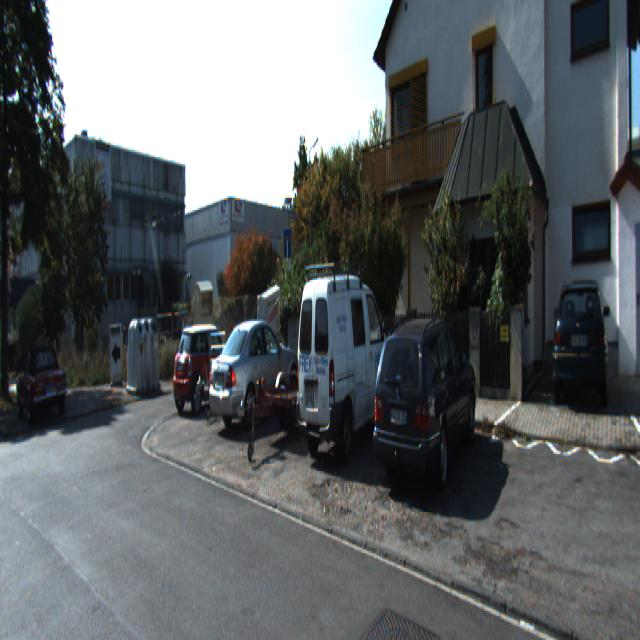Car: (294, 259, 401, 469), (372, 310, 481, 505), (205, 312, 302, 436), (552, 268, 610, 407), (169, 322, 238, 415), (14, 338, 68, 421)
Misc: (214, 357, 354, 474), (185, 326, 247, 424), (252, 282, 280, 359)
